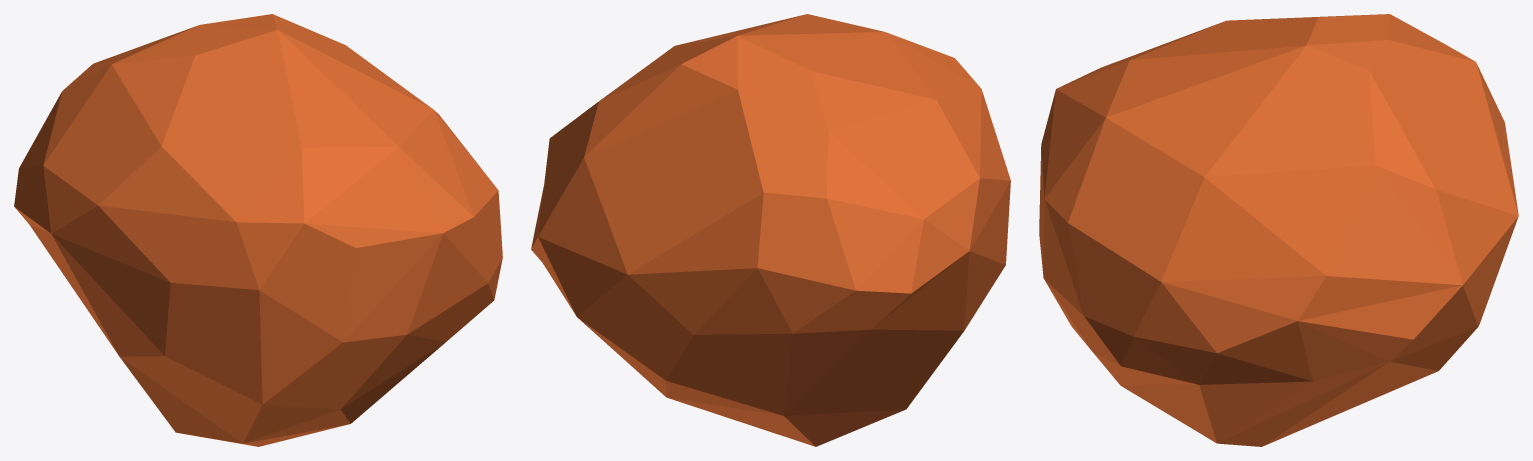
Rendered from Bush_01.fbx.
The picture shows the model from 3 angles, left to right: view 1: azimuth 30°, elevation 25°; view 2: azimuth 150°, elevation 25°; view 3: azimuth 270°, elevation 25°; orthographic projection. The views are drawn at different scales.
Parts seen in each view (by area): view 1: Bush_01; view 2: Bush_01; view 3: Bush_01.
Boxes of the visible parts, box(x1,y1,x2,y2) form: Bush_01: box(14, 14, 502, 446); Bush_01: box(531, 14, 1010, 446); Bush_01: box(1039, 14, 1518, 446).
Size of the model in its own units: 173 by 149 by 165.
